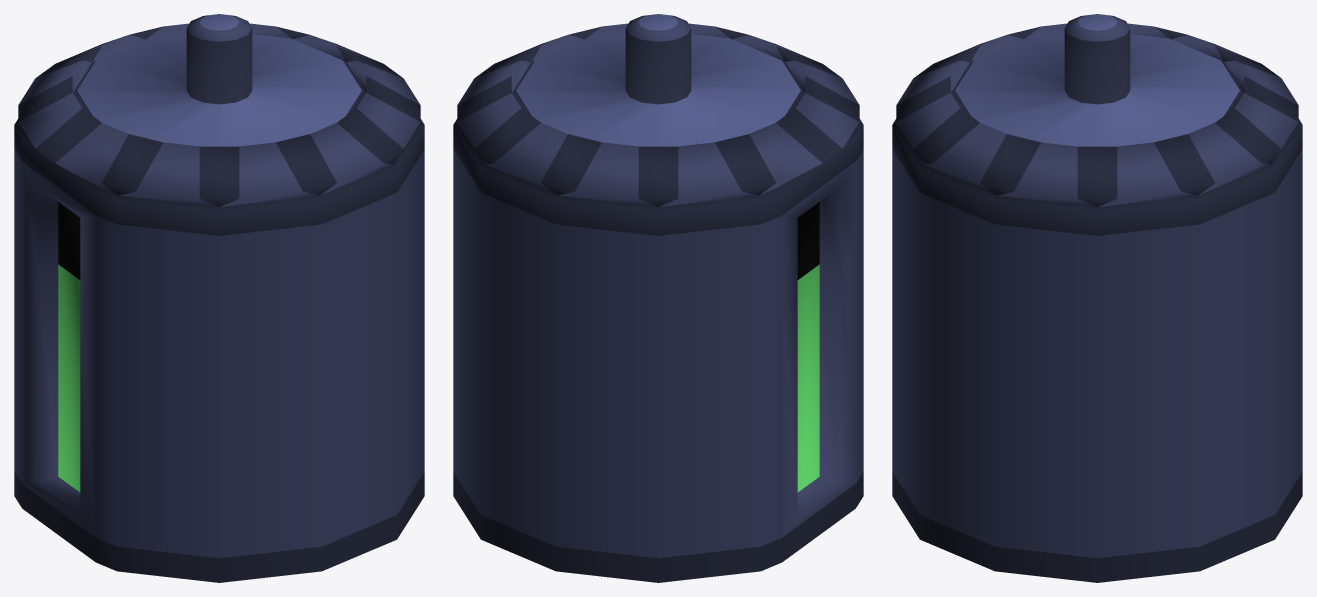
Rendered from OxygenTankBig.fbx.
3 views of the same model, side by side, from view 1: azimuth 30°, elevation 25°; view 2: azimuth 150°, elevation 25°; view 3: azimuth 270°, elevation 25° (orthographic).
Parts seen in each view (by area): view 1: Circle.003; view 2: Circle.003; view 3: Circle.003.
Boxes of the visible parts, <box> form: Circle.003: <box>14,14,424,582</box>; Circle.003: <box>453,14,863,582</box>; Circle.003: <box>892,14,1302,582</box>.
Bounding box in the file's own units: 198 × 255 × 200.
